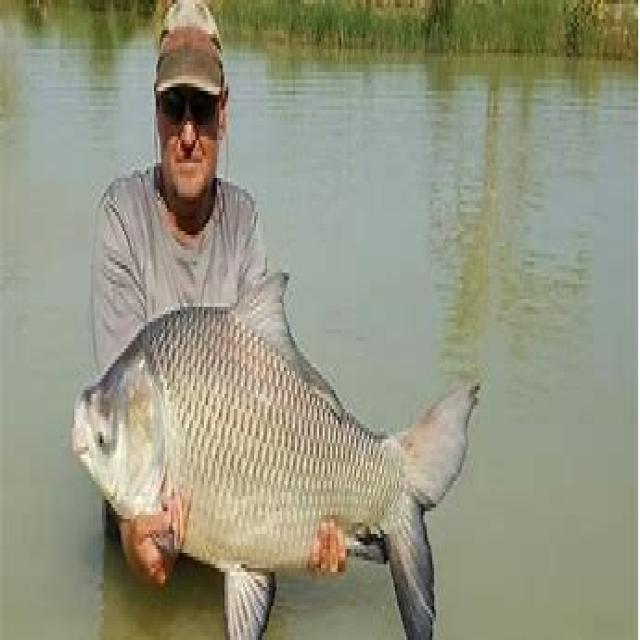Catla: (73, 277, 482, 636)
